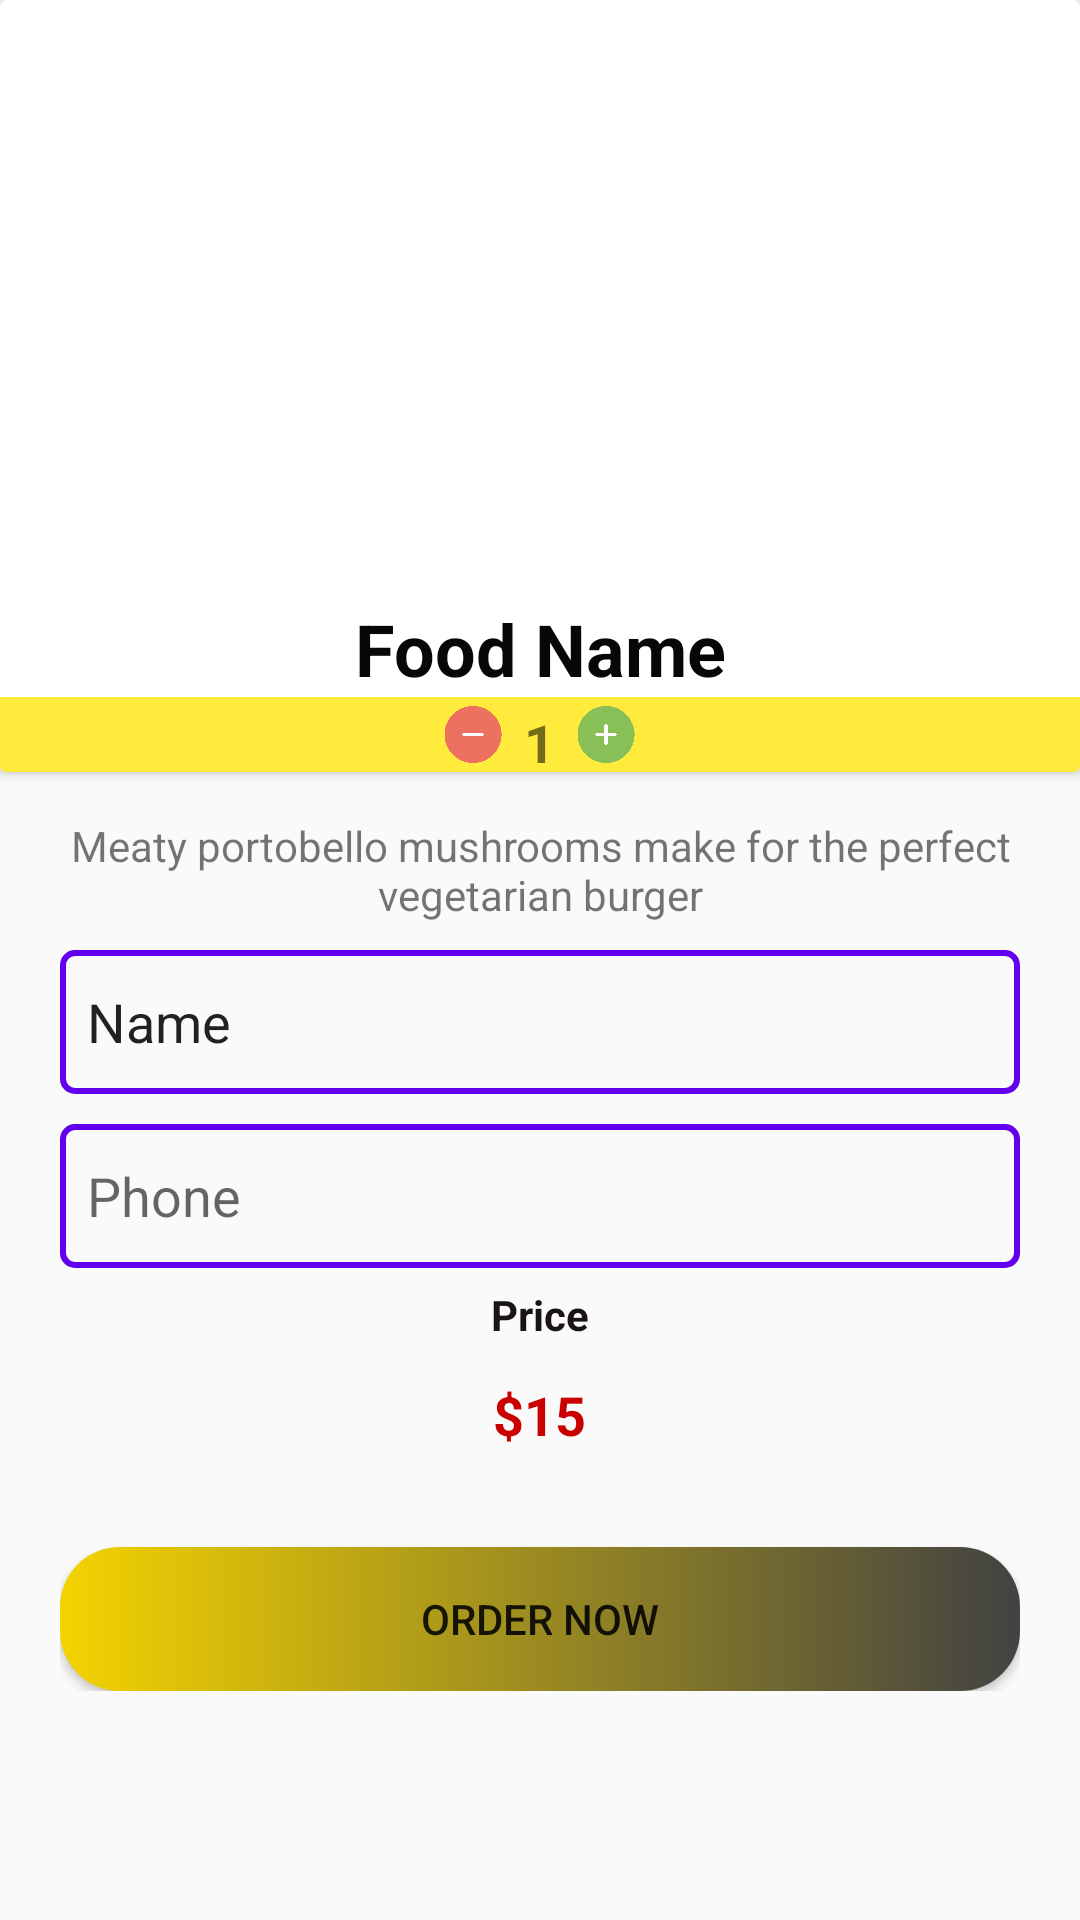

Named icons in this screenshot (1080×1920) and their bounding boxes, (x1, y1, x2, y2):
add: (578, 706, 635, 763)
minus: (445, 706, 502, 763)
